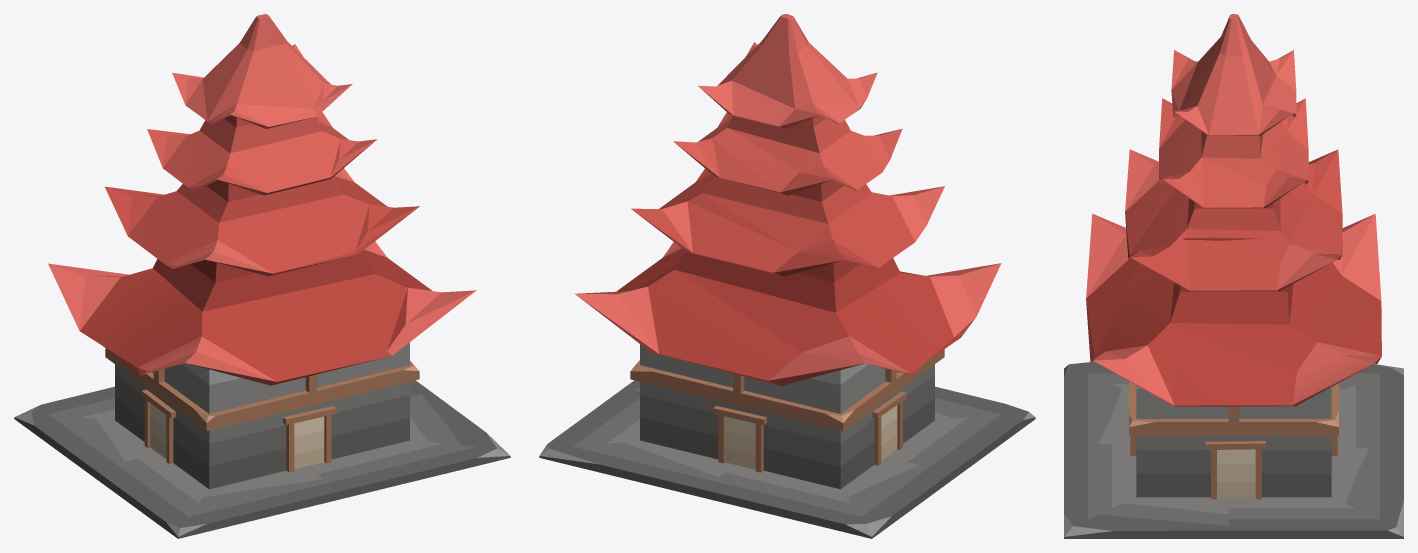
File: ChiefHouse.fbx
The picture shows the model from 3 angles, left to right: view 1: azimuth 30°, elevation 25°; view 2: azimuth 150°, elevation 25°; view 3: azimuth 270°, elevation 25°; orthographic projection. The views are drawn at different scales.
Visible parts, largest first — view 1: building_1; view 2: building_1; view 3: building_1.
Part boxes in pixels (x1,y1,x2,y2): building_1: (14,14,510,538); building_1: (539,14,1035,538); building_1: (1064,14,1403,538).
Size of the model in its own units: 5549 by 6731 by 4730.
